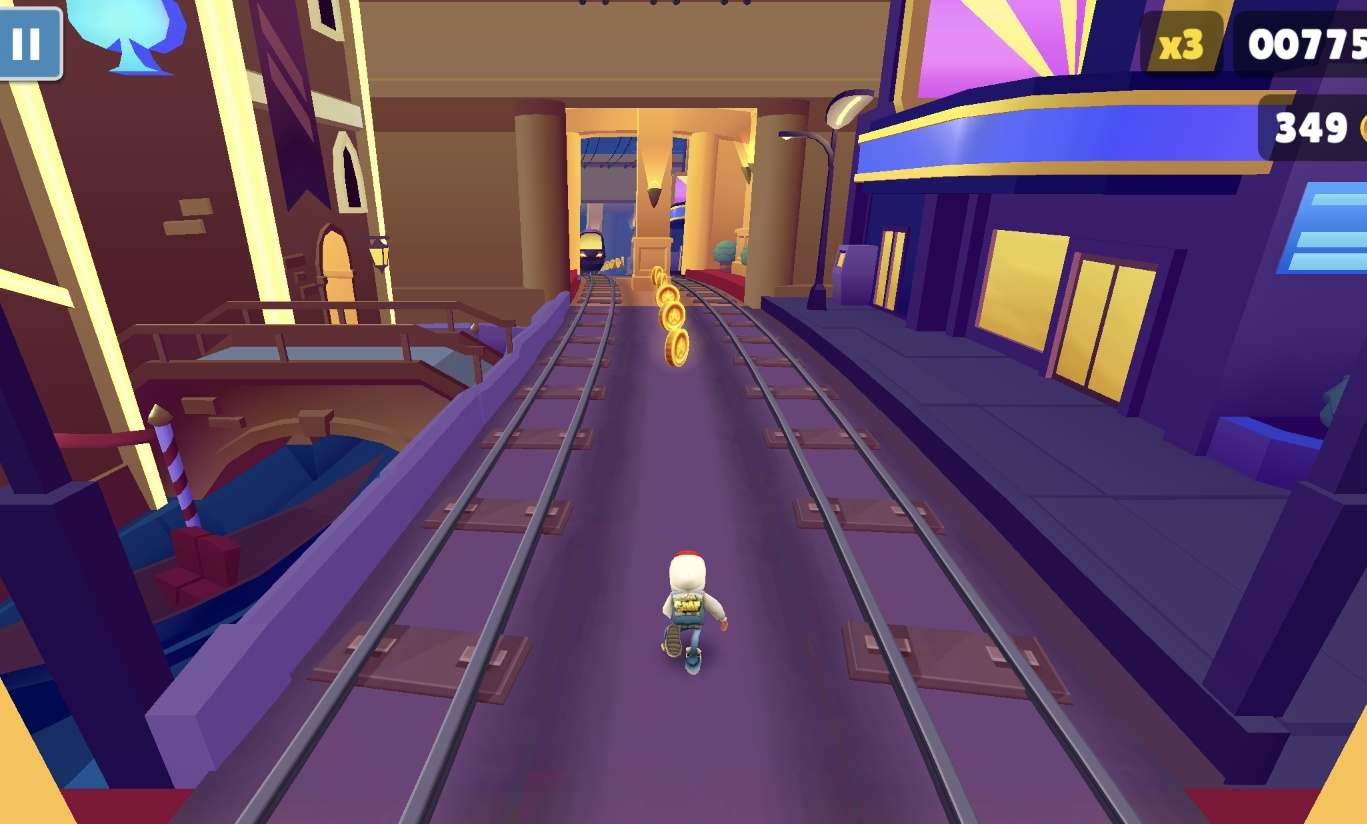pillar: (630, 109, 675, 287)
train: (579, 230, 605, 277)
